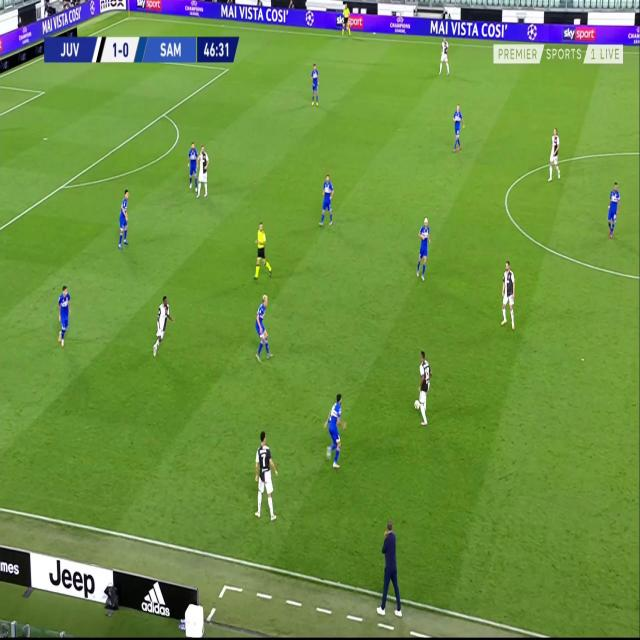ball: (414, 398, 420, 410)
player: (376, 516, 404, 619), (253, 428, 278, 524), (322, 390, 346, 470), (414, 346, 433, 426), (152, 293, 174, 357), (499, 256, 517, 330), (253, 293, 272, 362), (415, 214, 432, 281), (253, 218, 271, 280), (56, 282, 72, 346), (605, 179, 622, 239), (116, 184, 130, 249), (546, 126, 562, 182), (318, 172, 334, 228), (197, 144, 210, 199), (185, 138, 198, 190), (452, 103, 465, 152), (309, 60, 320, 107), (438, 35, 450, 76), (340, 1, 352, 38)
